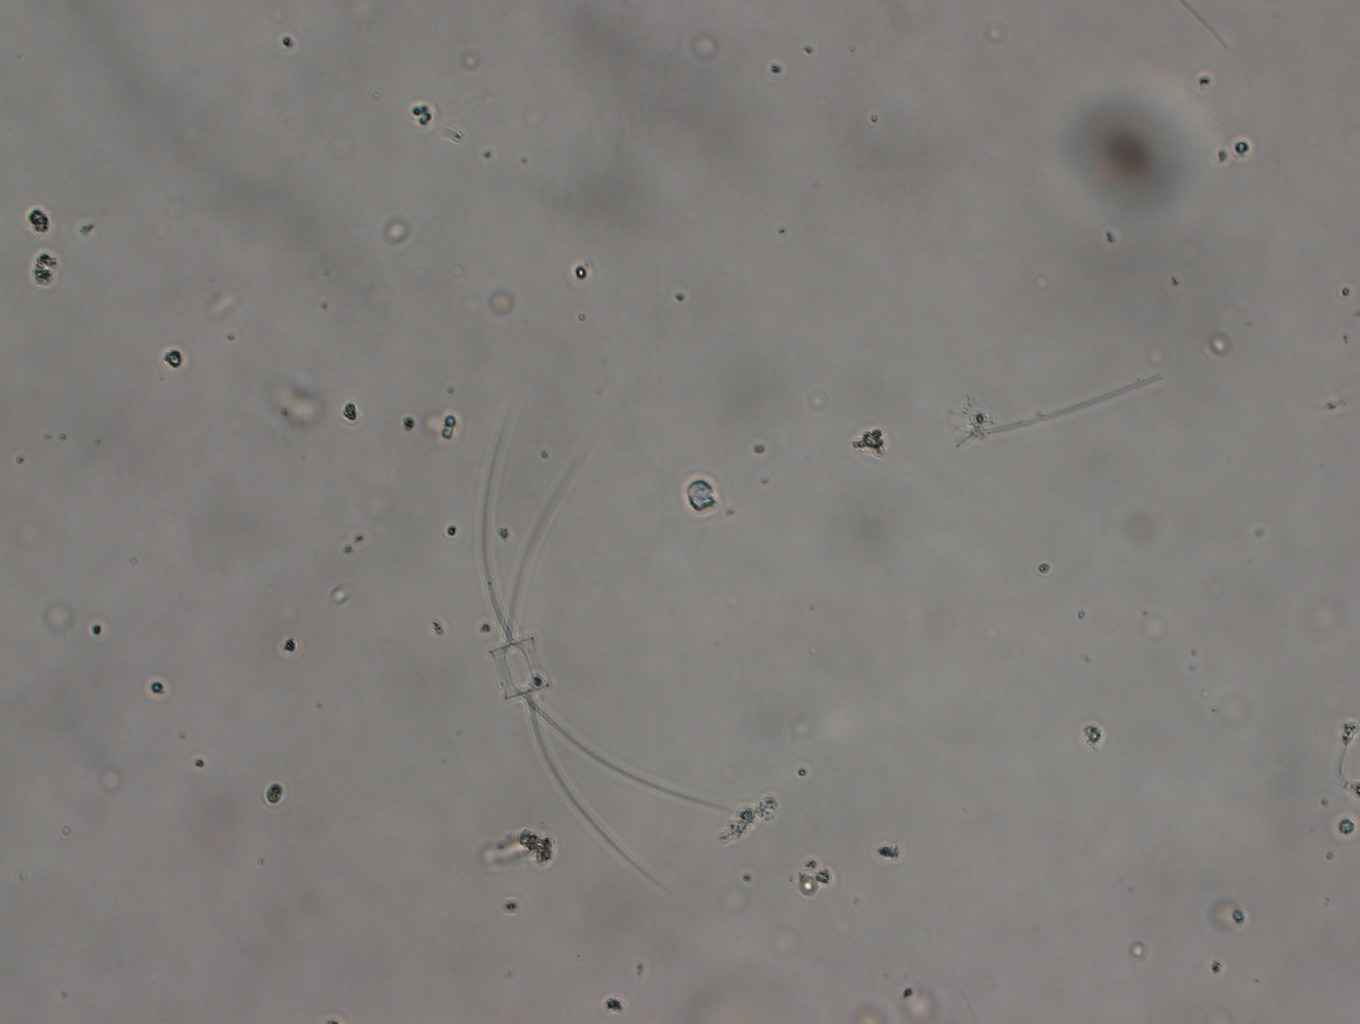chaetoceros: (479, 400, 745, 890)
